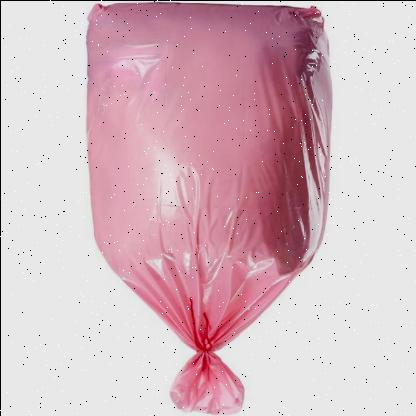Others: (83, 2, 335, 412)
